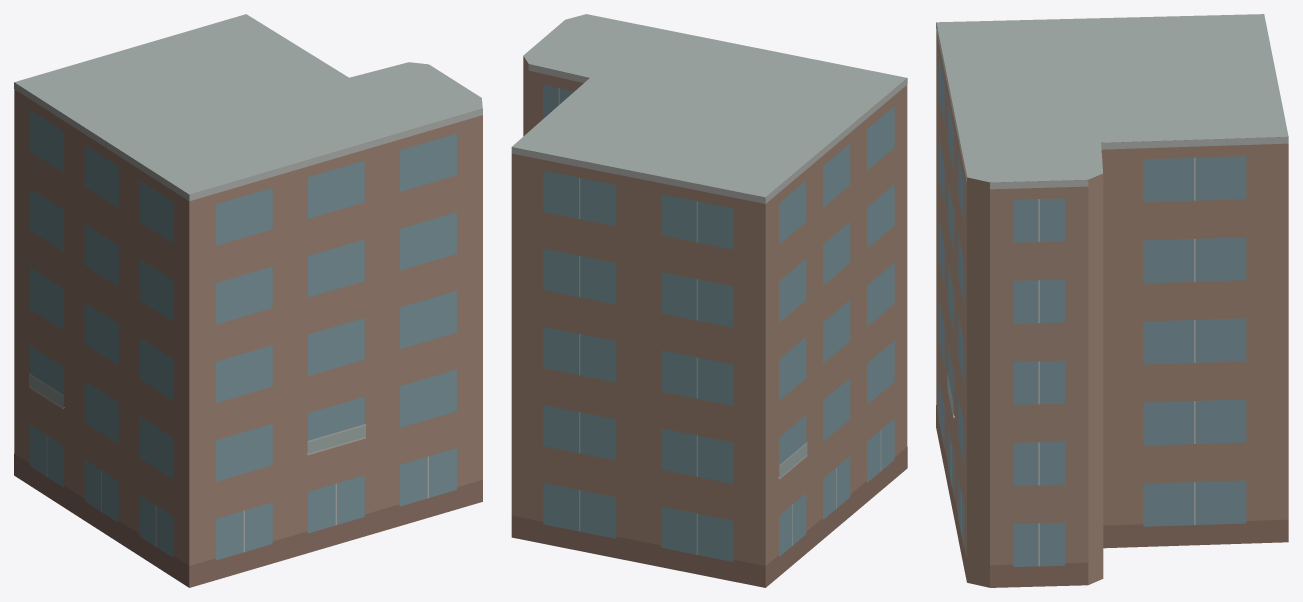
Rendered from survey-upis-32874529.glb.
The picture shows the model from 3 angles, left to right: view 1: azimuth 30°, elevation 25°; view 2: azimuth 150°, elevation 25°; view 3: azimuth 270°, elevation 25°; orthographic projection. The views are drawn at different scales.
Parts seen in each view (by area): view 1: survey-upis-32874529.tmp; view 2: survey-upis-32874529.tmp; view 3: survey-upis-32874529.tmp.
Boxes of the visible parts, x1,y1,x2,y2 form: survey-upis-32874529.tmp: (14,14,482,587); survey-upis-32874529.tmp: (511,14,907,587); survey-upis-32874529.tmp: (936,14,1288,587).
Bounding box in the file's own units: 12.88 × 14.45 × 11.39.
